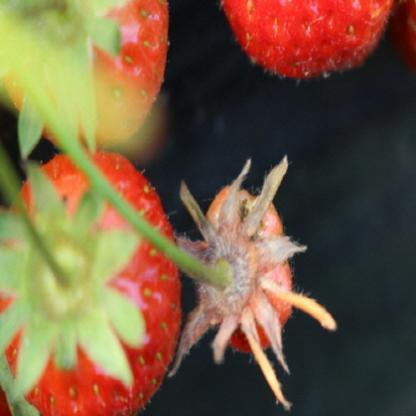Strawberry_Gray_Mold: (169, 154, 337, 410)
